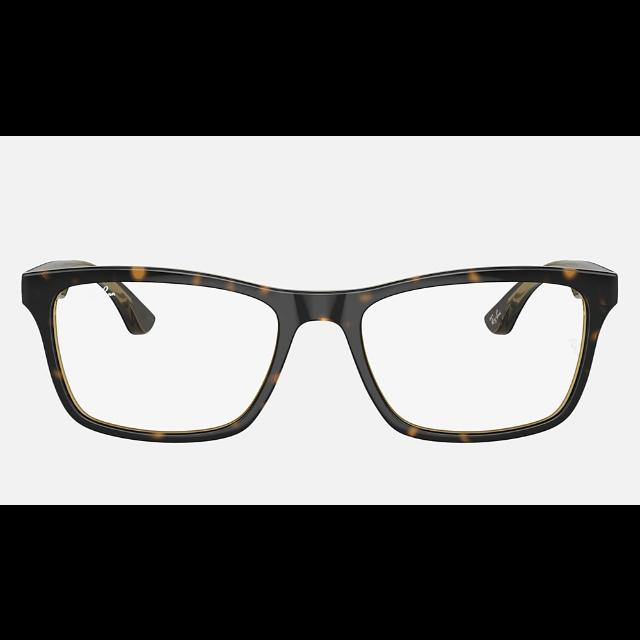glasses: (23, 257, 619, 443)
